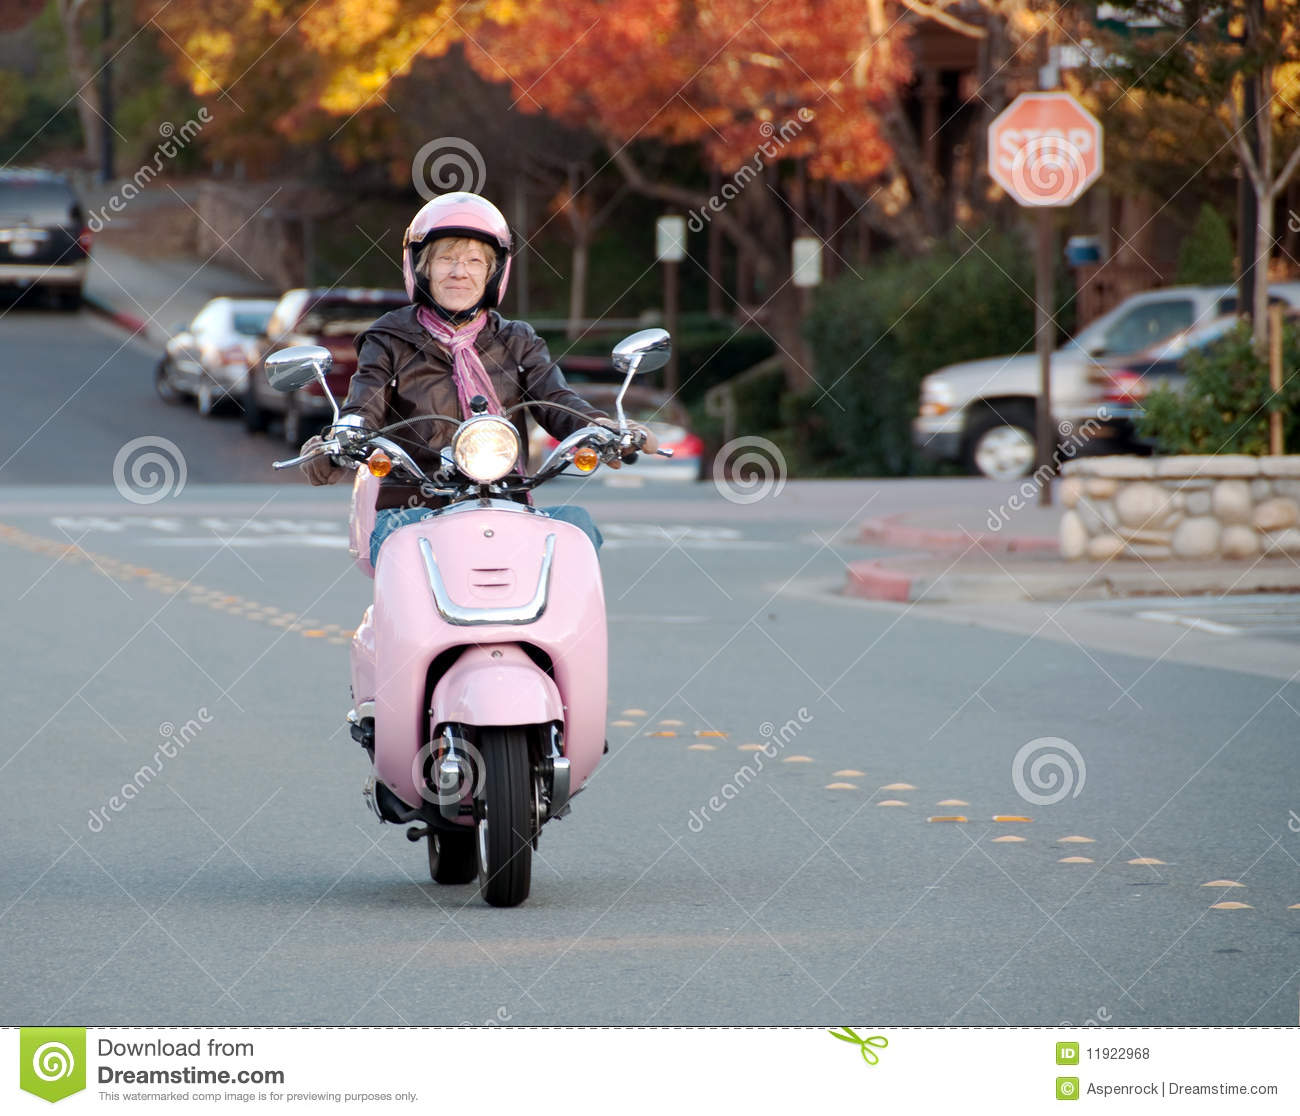helmet: (398, 201, 522, 307)
